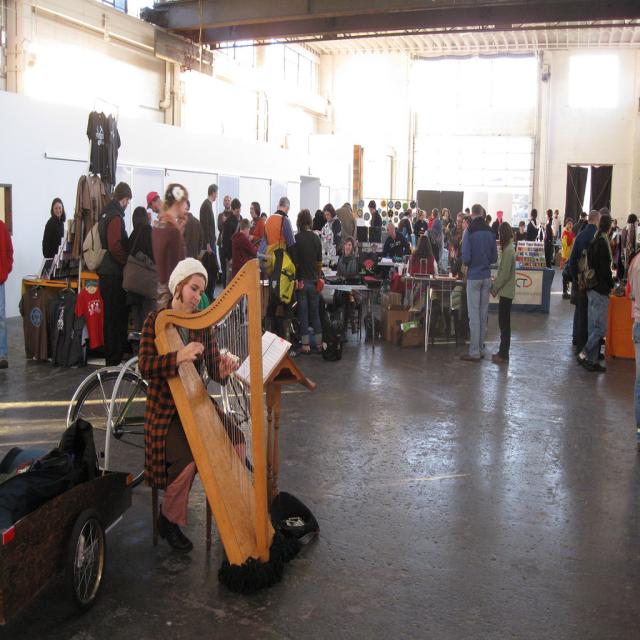harp: (152, 257, 287, 589)
